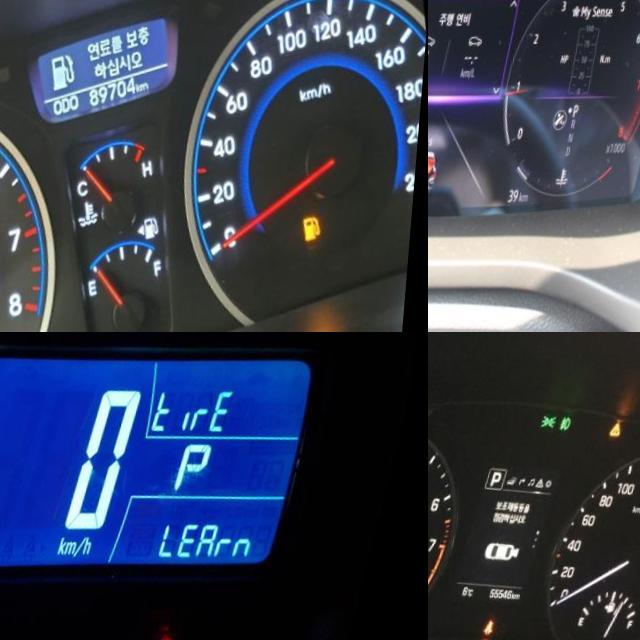Central Warning lamp: (611, 432, 627, 450)
FrontFogLight: (561, 426, 575, 443)
Low fuel level: (307, 228, 330, 259)
SideLamp: (542, 422, 560, 440)
